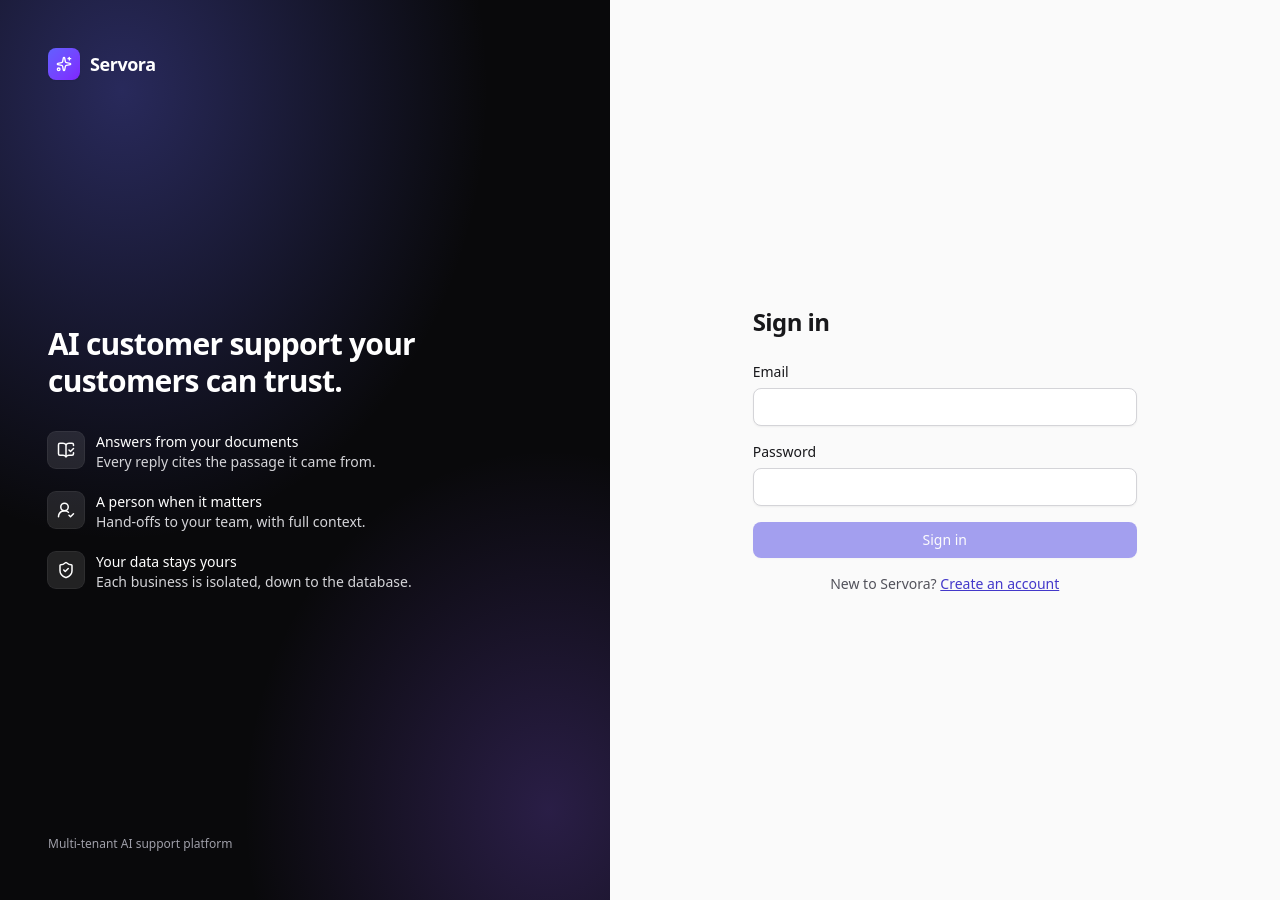
Test: sign in › shows the server's message when credentials are rejected
Type "owner@example.test" into the field labelled "Email". click: x=945, y=407
box: [753,388,1137,426]
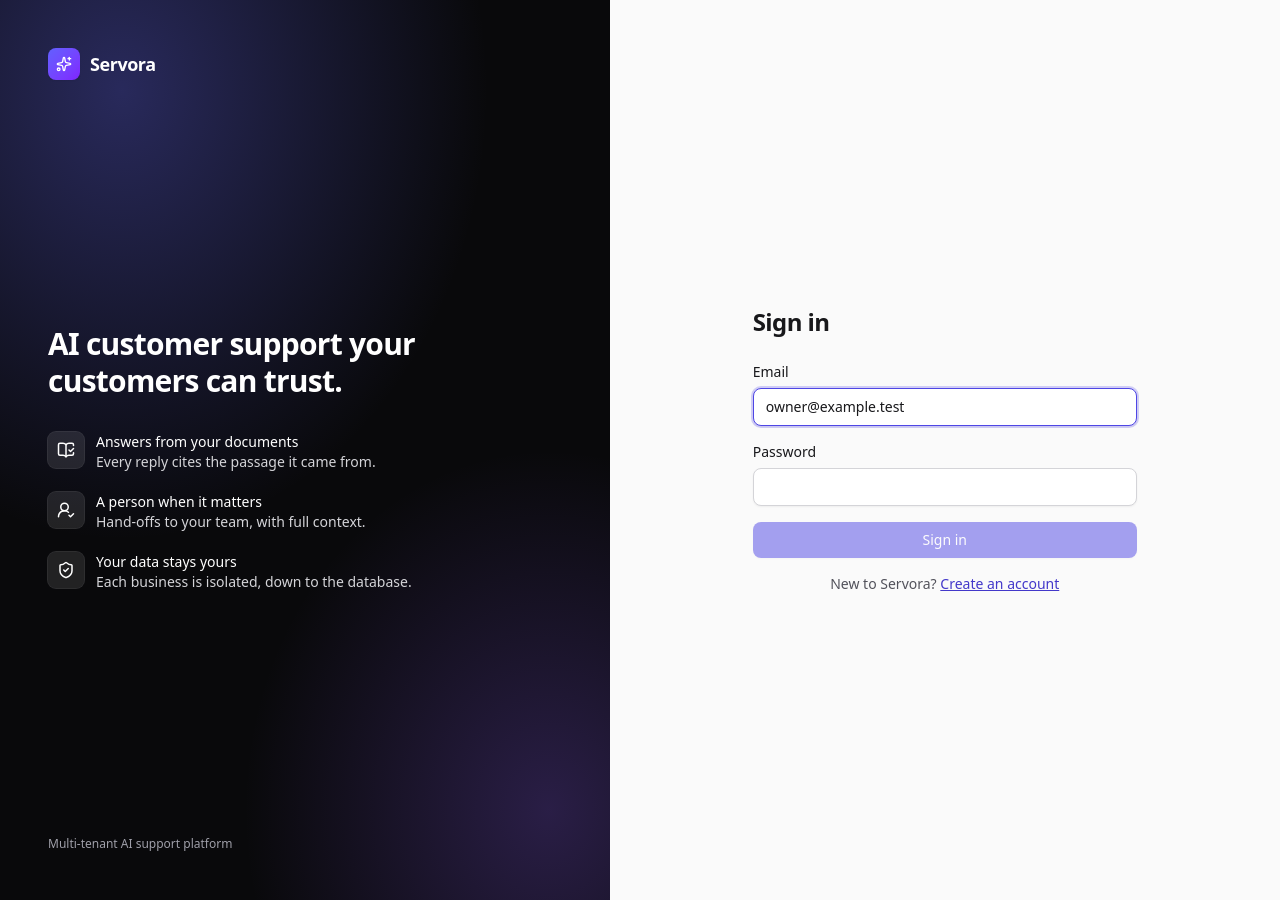
Type "wrong-password" into the password field labelled "Password". click: x=945, y=487
box: [753,468,1137,506]
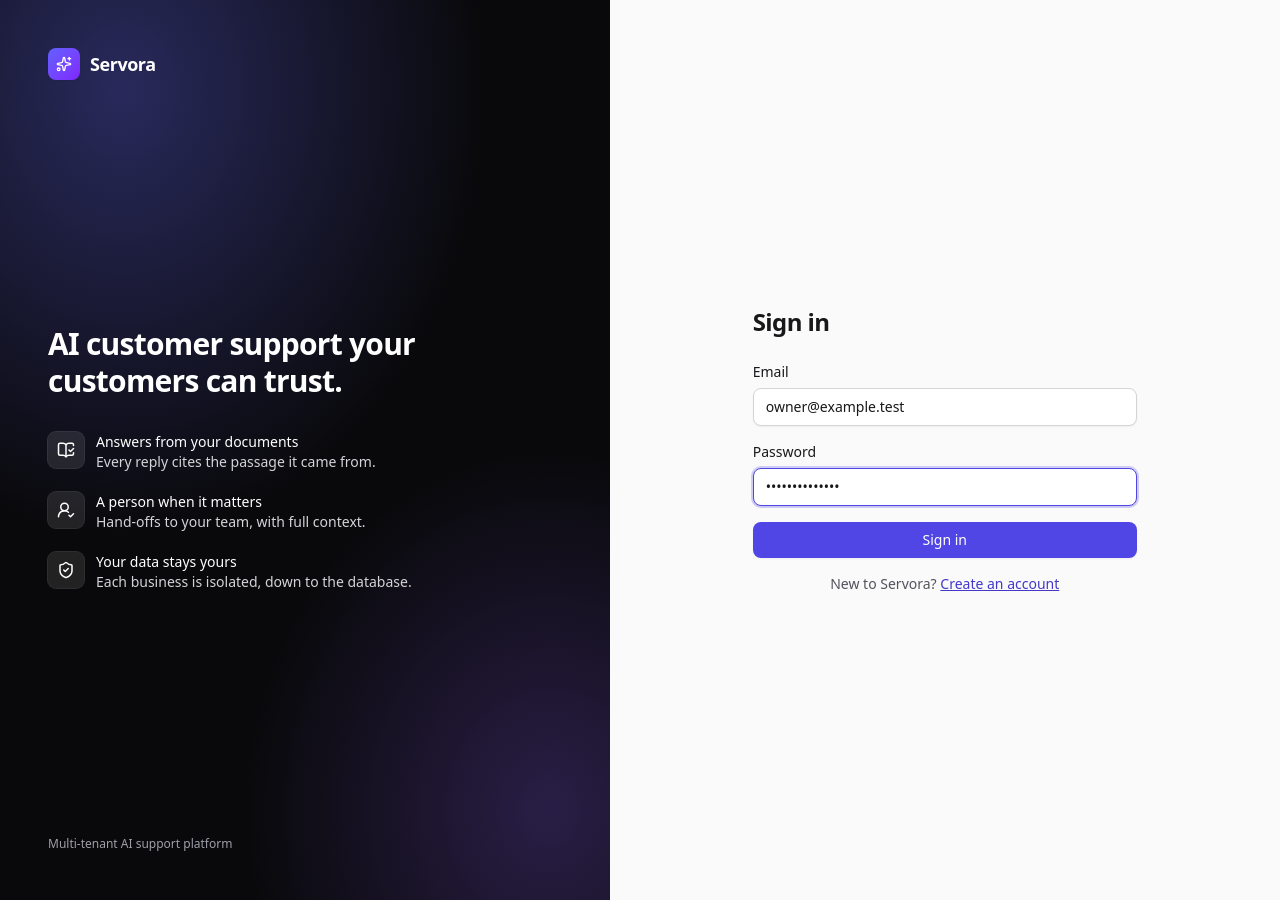
Click the button "Sign in". click: x=945, y=540
box: [753,522,1137,558]
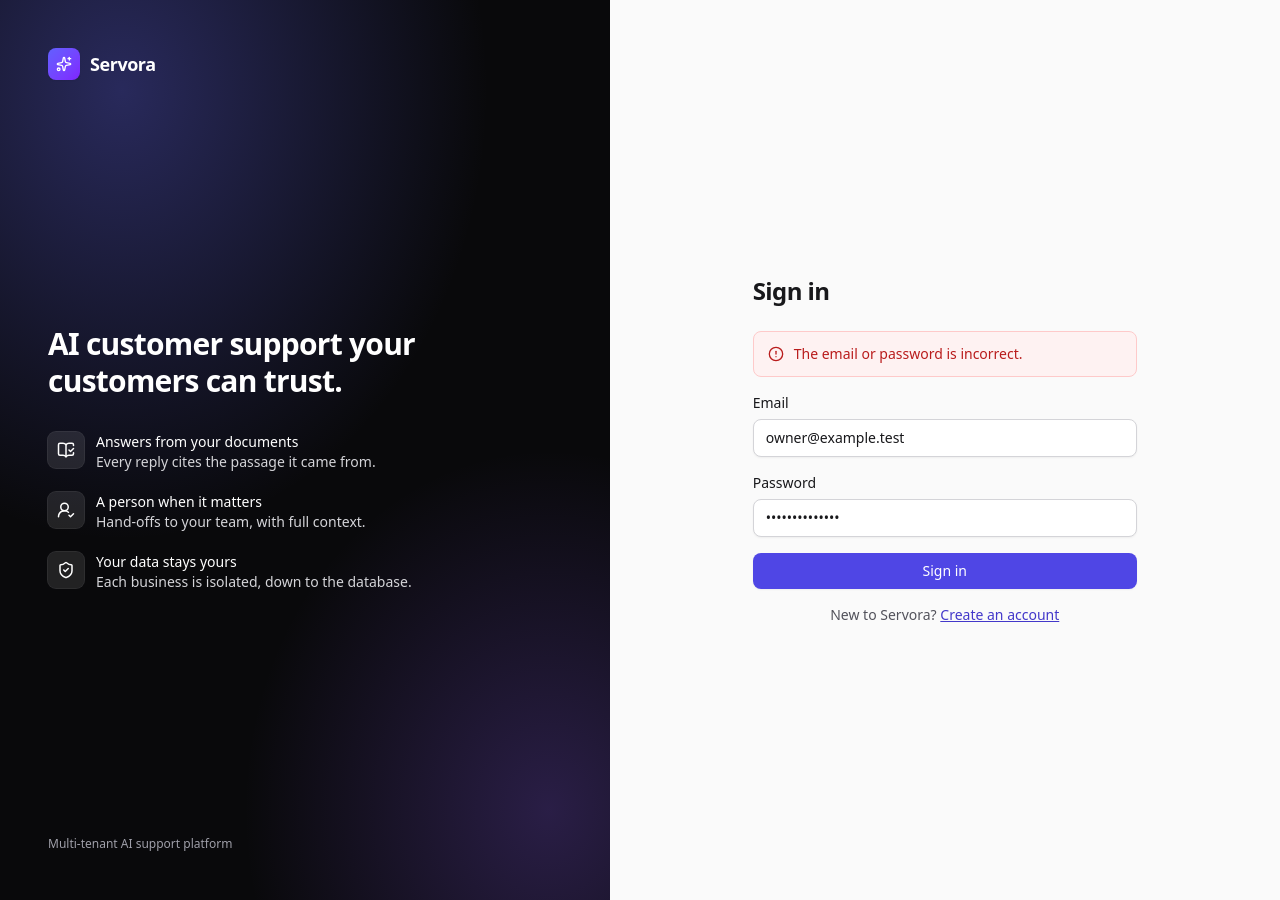
Expected: the message reads "The email or password is incorrect.", [794,344,1023,363]
